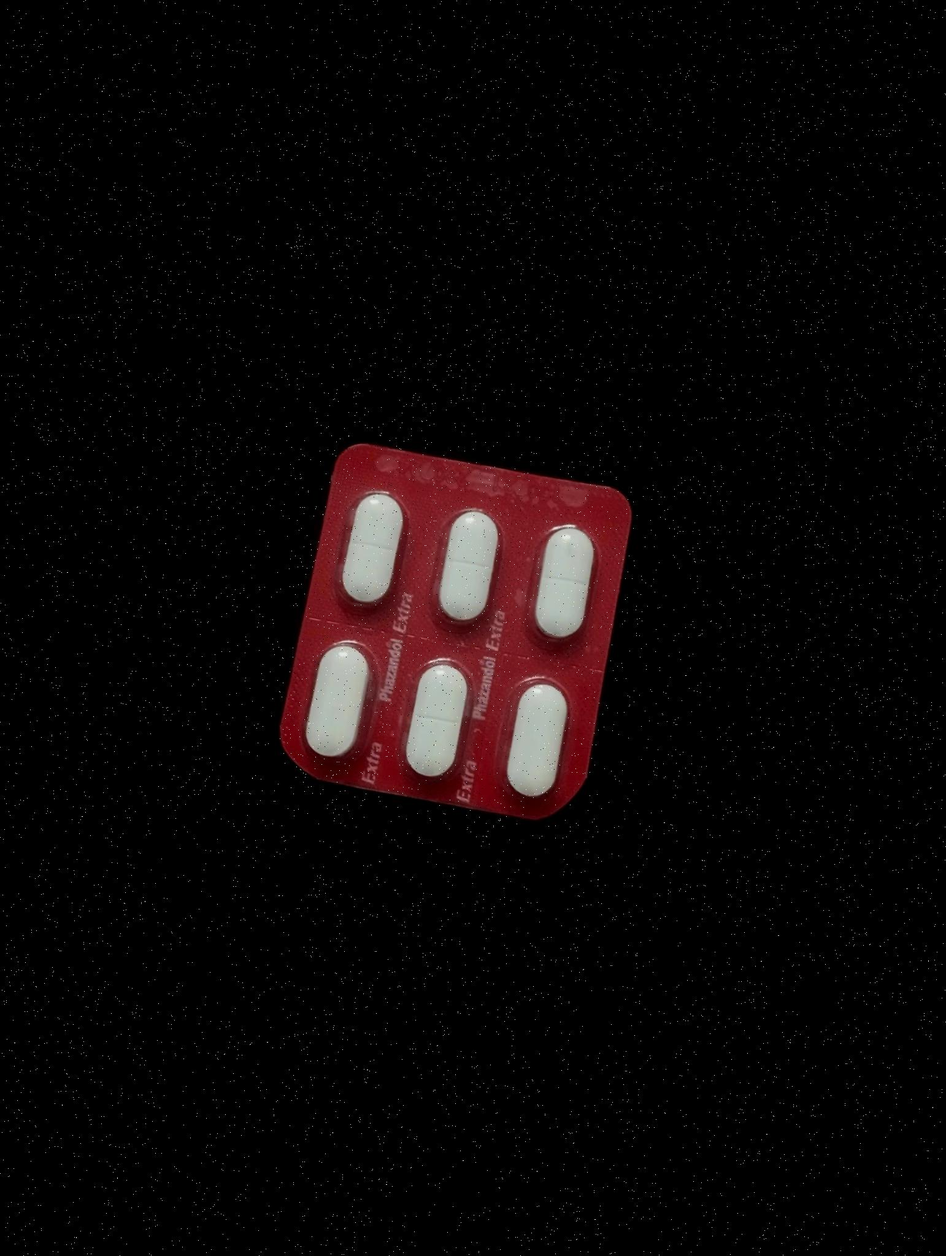Full: (296, 634, 380, 771), (496, 668, 580, 799), (336, 480, 415, 613), (398, 651, 477, 784), (433, 494, 505, 630), (529, 519, 601, 646)
